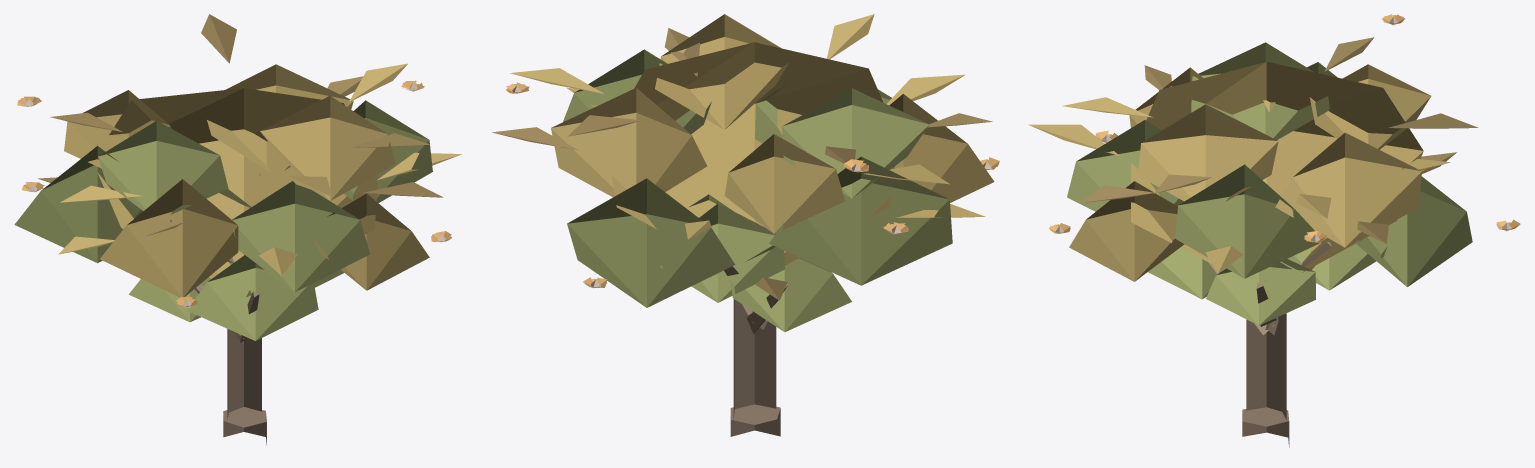
The model's file is shu.fenghuang__autumn.glb.
3 renders of one model, left to right at view 1: azimuth 30°, elevation 25°; view 2: azimuth 150°, elevation 25°; view 3: azimuth 270°, elevation 25°, orthographic. The views are drawn at different scales.
Visible parts, largest first — view 1: shu.fenghuang__autumn; view 2: shu.fenghuang__autumn; view 3: shu.fenghuang__autumn.
Boxes of the visible parts, x1,y1,x2,y2 form: shu.fenghuang__autumn: [14, 14, 461, 445]; shu.fenghuang__autumn: [491, 14, 999, 436]; shu.fenghuang__autumn: [1028, 14, 1520, 447].
Bounding box in the file's own units: 14.49 × 12.07 × 14.67.
